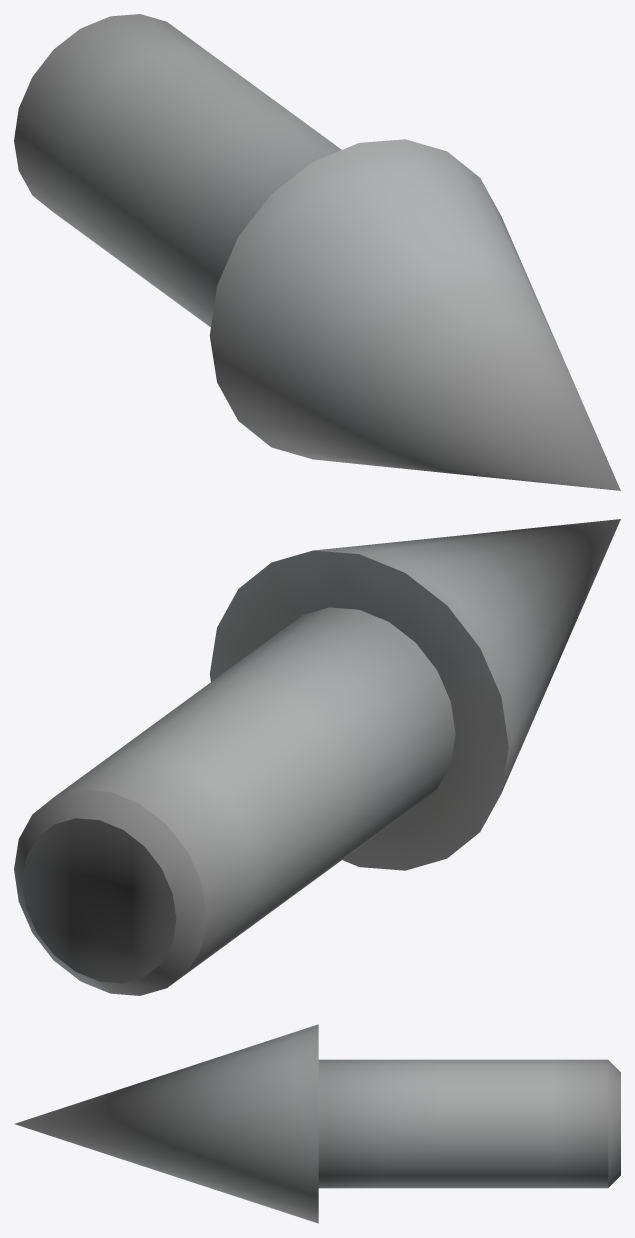
The model's file is item_rpg_ammo_spear.glb.
The picture shows the model from 3 angles, top to bottom: view 1: azimuth 30°, elevation 25°; view 2: azimuth 150°, elevation 25°; view 3: azimuth 270°, elevation 25°; orthographic projection. The views are drawn at different scales.
Parts seen in each view (by area): view 1: RPG_AOTSpear; view 2: RPG_AOTSpear; view 3: RPG_AOTSpear.
Part boxes in pixels (x1,y1,x2,y2): RPG_AOTSpear: [14, 14, 620, 490]; RPG_AOTSpear: [14, 519, 620, 995]; RPG_AOTSpear: [14, 1024, 620, 1223].
Size of the model in its own units: 0.0769 by 0.0769 by 0.2324.
Materials: 1 (1 with a texture image).
